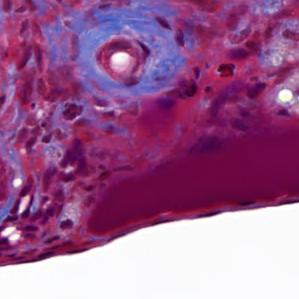inflammation: (154, 76, 204, 111), (53, 137, 93, 180), (5, 187, 36, 222)
